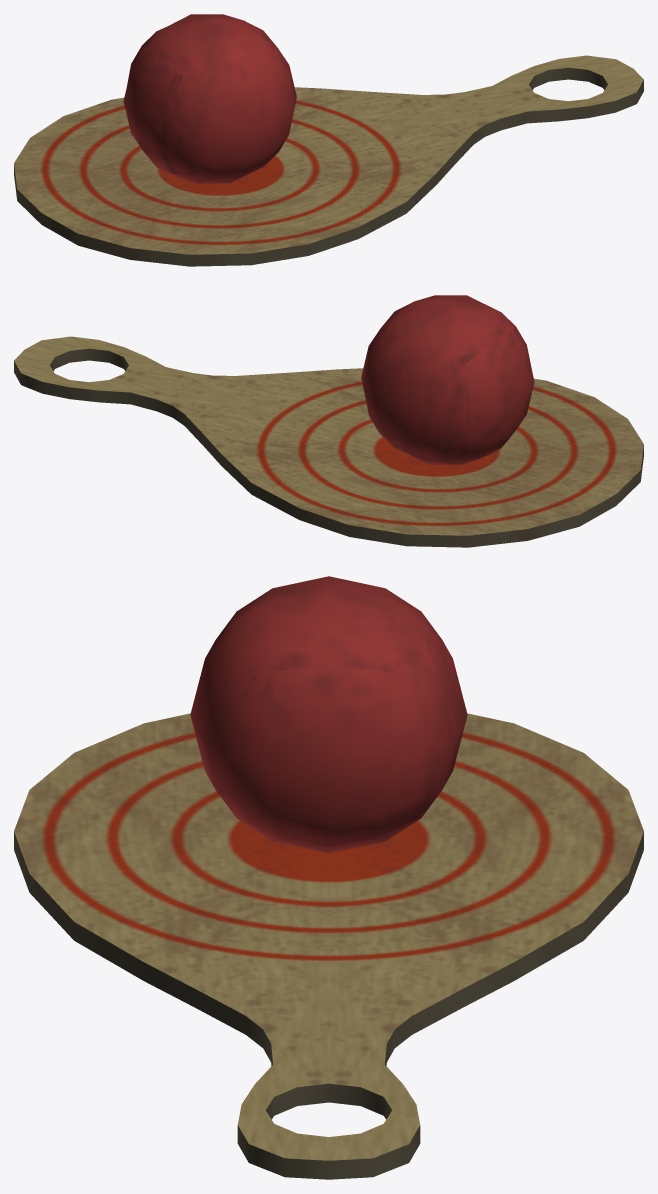
Rendered from paddleBall.fbx.
The picture shows the model from 3 angles, top to bottom: view 1: azimuth 30°, elevation 25°; view 2: azimuth 150°, elevation 25°; view 3: azimuth 270°, elevation 25°; orthographic projection. The views are drawn at different scales.
Visible parts, largest first — view 1: paddle, ball1; view 2: paddle, ball1; view 3: paddle, ball1.
Boxes of the visible parts, box(x1,y1,x2,y2) form: paddle: box(14, 55, 643, 266); ball1: box(123, 14, 296, 183); paddle: box(14, 336, 643, 547); ball1: box(361, 295, 534, 464); paddle: box(14, 713, 643, 1179); ball1: box(190, 576, 467, 853).
Bounding box in the file's own units: 1003 × 264 × 579.
1 material, 1 textured.
